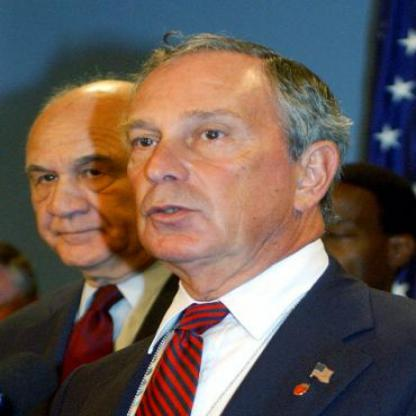face: (109, 43, 303, 276), (13, 88, 163, 273)
